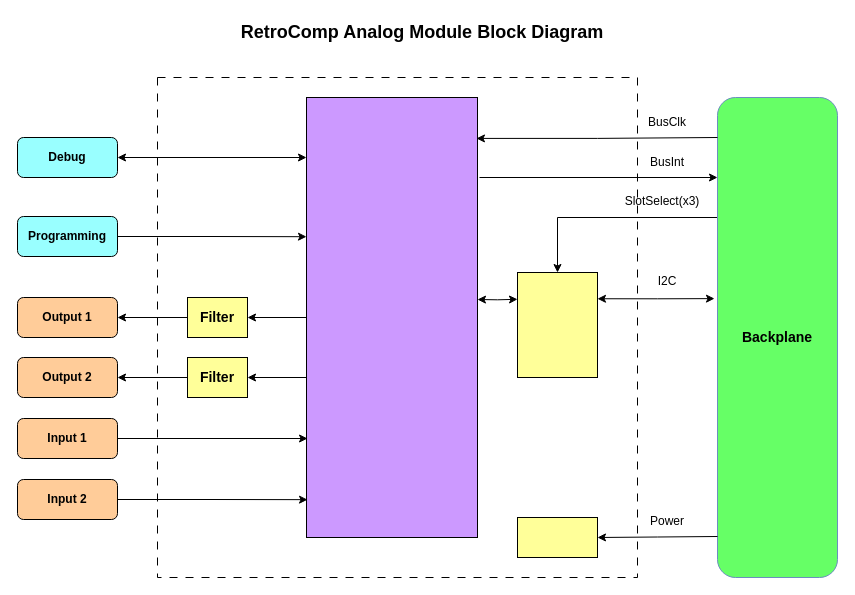
The diagram is 855 pixels wide and 595 high, and some of its shapes have lost their labels. The shapes that lost their labels are listed below. From the top down, each one's centre as x and y in pixels, then its label:
the point at 392,317: Arduino NANO
the point at 557,325: Config
the point at 557,537: Power Filter
